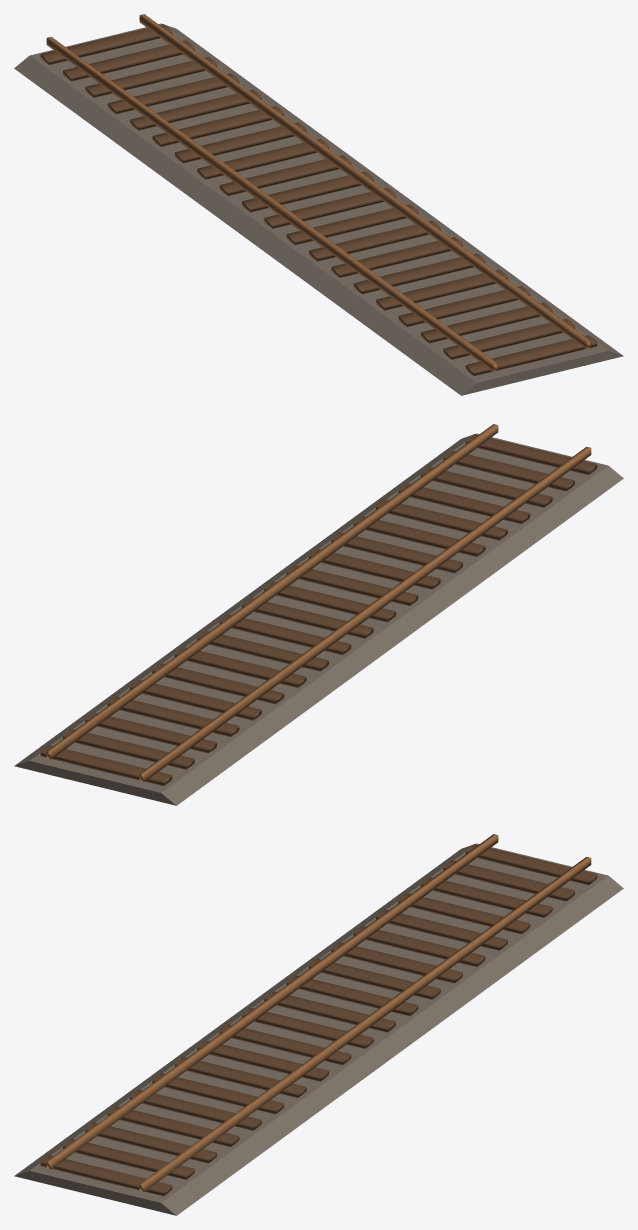
The model's file is StruggleTrack.obj.
The picture shows the model from 3 angles, top to bottom: view 1: azimuth 30°, elevation 25°; view 2: azimuth 150°, elevation 25°; view 3: azimuth 330°, elevation 25°; orthographic projection.
Visible parts, largest first — view 1: Ballast, Sleepers, Rails; view 2: Ballast, Sleepers, Rails; view 3: Ballast, Sleepers, Rails.
Boxes of the visible parts, x1,y1,x2,y2 form: Ballast: [14, 23, 623, 395]; Sleepers: [40, 24, 597, 376]; Rails: [46, 14, 591, 371]; Ballast: [14, 433, 623, 805]; Sleepers: [40, 434, 597, 786]; Rails: [46, 424, 591, 781]; Ballast: [14, 843, 623, 1215]; Sleepers: [40, 844, 597, 1196]; Rails: [46, 834, 591, 1191].
Bounding box in the file's own units: 8.4 × 1.15 × 40.
